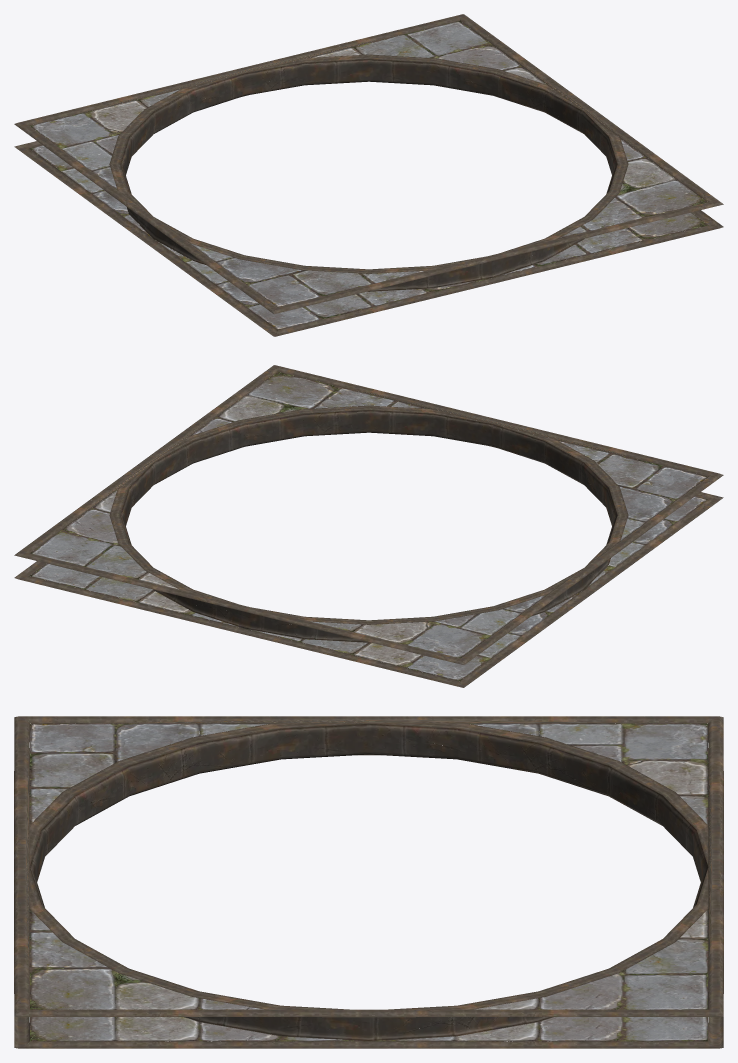
3 views of the same model, one above another, from view 1: azimuth 30°, elevation 25°; view 2: azimuth 150°, elevation 25°; view 3: azimuth 270°, elevation 25° (orthographic). The views are drawn at different scales.
Visible parts, largest first — view 1: SM_Dowdun_Spiral_Staircase_Tower_02_LOD0; view 2: SM_Dowdun_Spiral_Staircase_Tower_02_LOD0; view 3: SM_Dowdun_Spiral_Staircase_Tower_02_LOD0.
Part boxes in pixels (bbox=[...]): SM_Dowdun_Spiral_Staircase_Tower_02_LOD0: bbox=[14, 14, 723, 336]; SM_Dowdun_Spiral_Staircase_Tower_02_LOD0: bbox=[14, 365, 723, 687]; SM_Dowdun_Spiral_Staircase_Tower_02_LOD0: bbox=[14, 716, 723, 1048].
Bounding box in the file's own units: 10.46 × 0.5875 × 10.46.
Materials: 2 (2 with a texture image).
